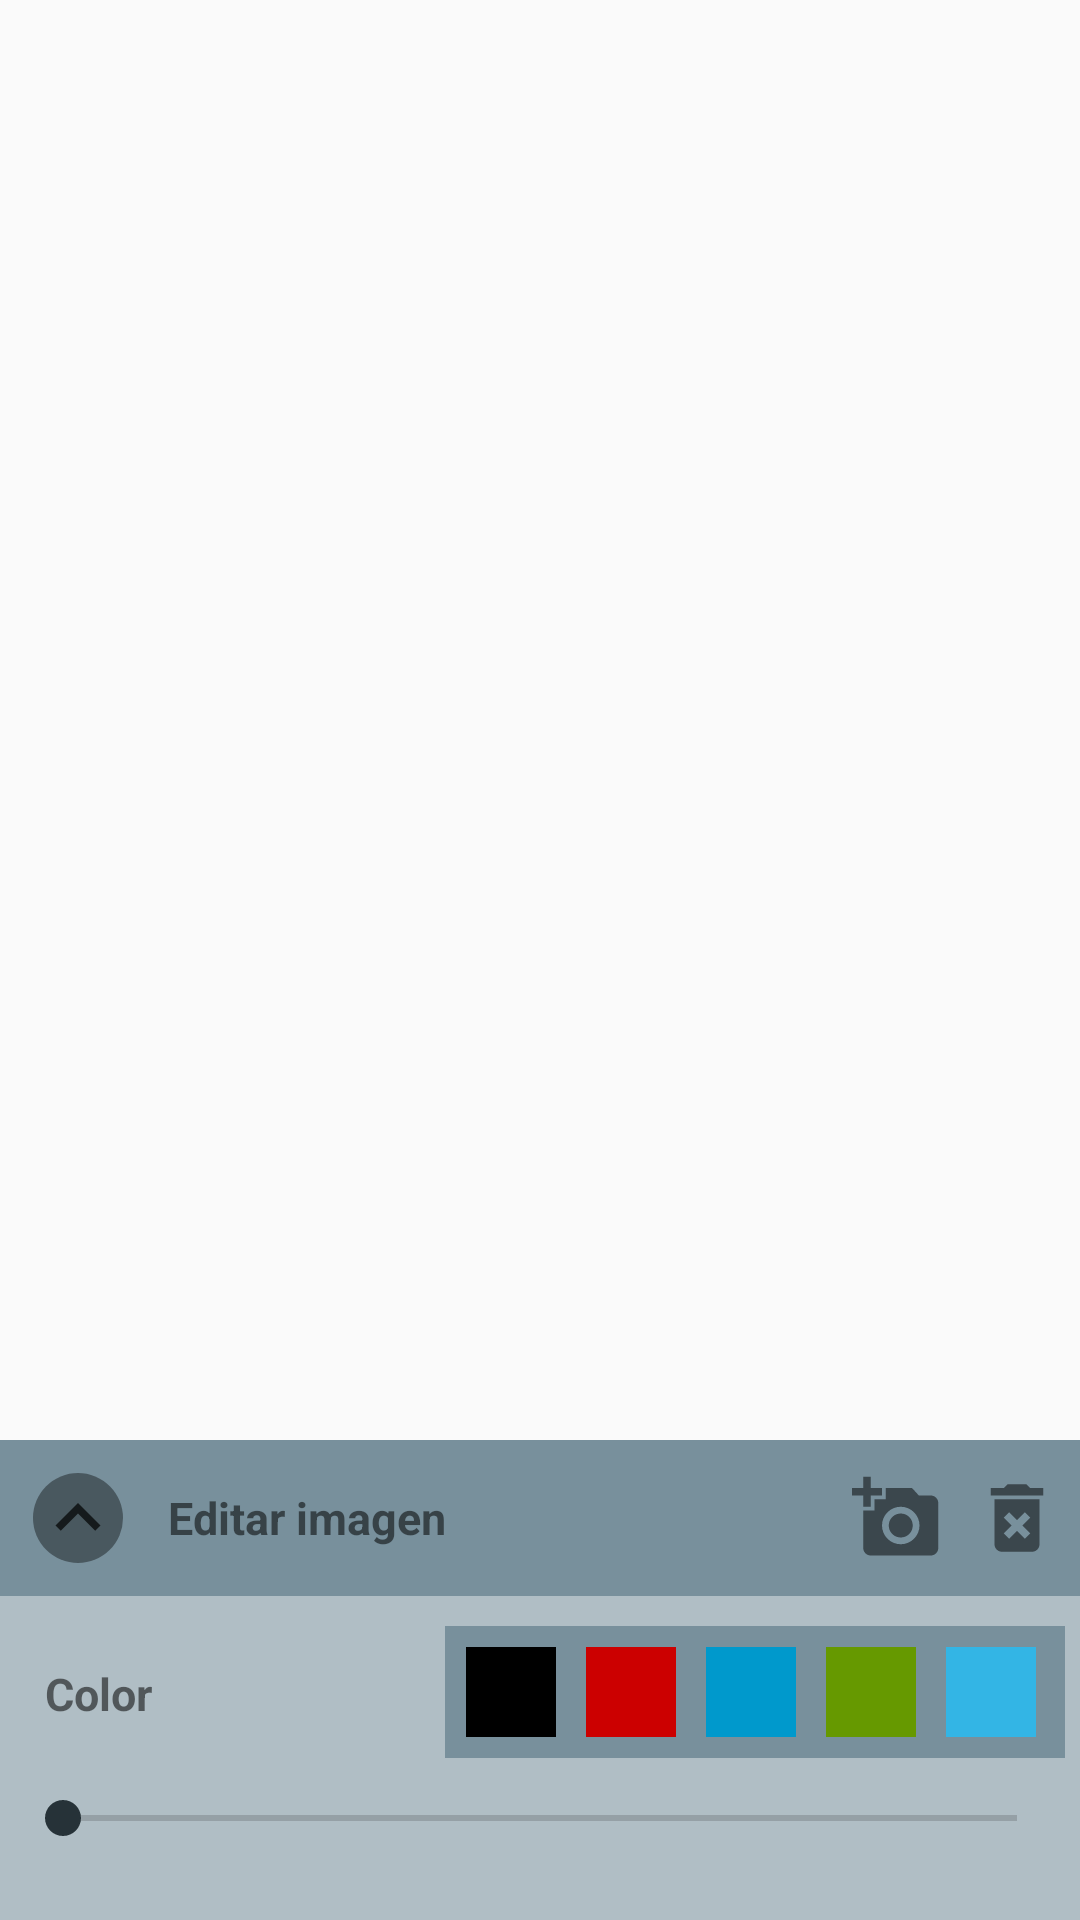

Screen size 1080*1920. Icon name, then its box in pixels as rect(x1, y1, x2, y2):
editor dibujo mas opciones: rect(33, 1473, 123, 1563)
panel titulo chooseimg: rect(852, 1477, 938, 1556)
panel titulo delete: rect(991, 1484, 1043, 1552)
